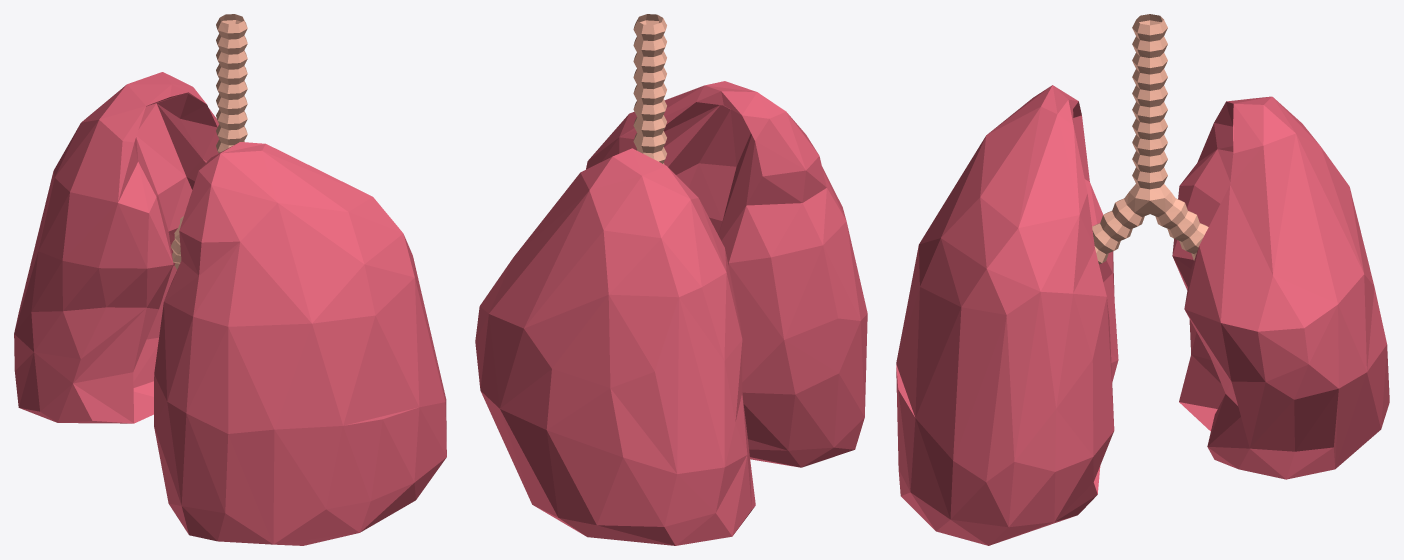
File: Lungs.fbx
The picture shows the model from 3 angles, left to right: view 1: azimuth 30°, elevation 25°; view 2: azimuth 150°, elevation 25°; view 3: azimuth 270°, elevation 25°; orthographic projection. The views are drawn at different scales.
Parts seen in each view (by area): view 1: Lungs; view 2: Lungs; view 3: Lungs.
Boxes of the visible parts, box(x1,y1,x2,y2) form: Lungs: box(14, 14, 446, 545); Lungs: box(475, 14, 867, 545); Lungs: box(896, 14, 1389, 545).
Size of the model in its own units: 95.81 by 145 by 132.
